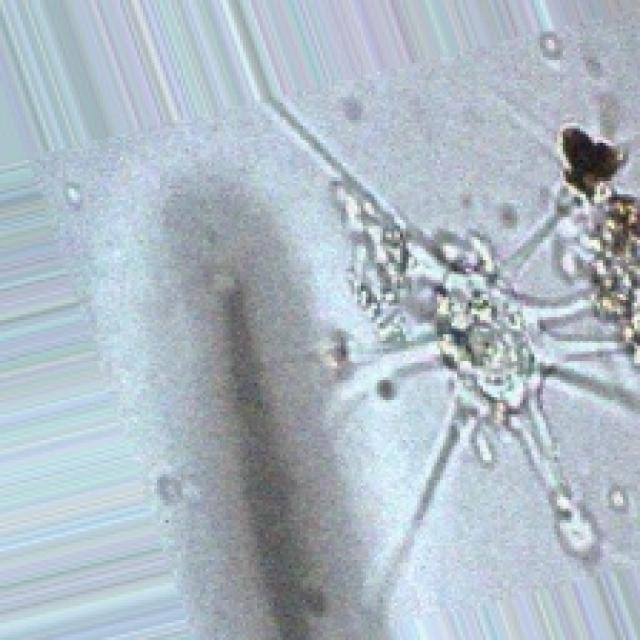Amoeba: (34, 9, 637, 637)
